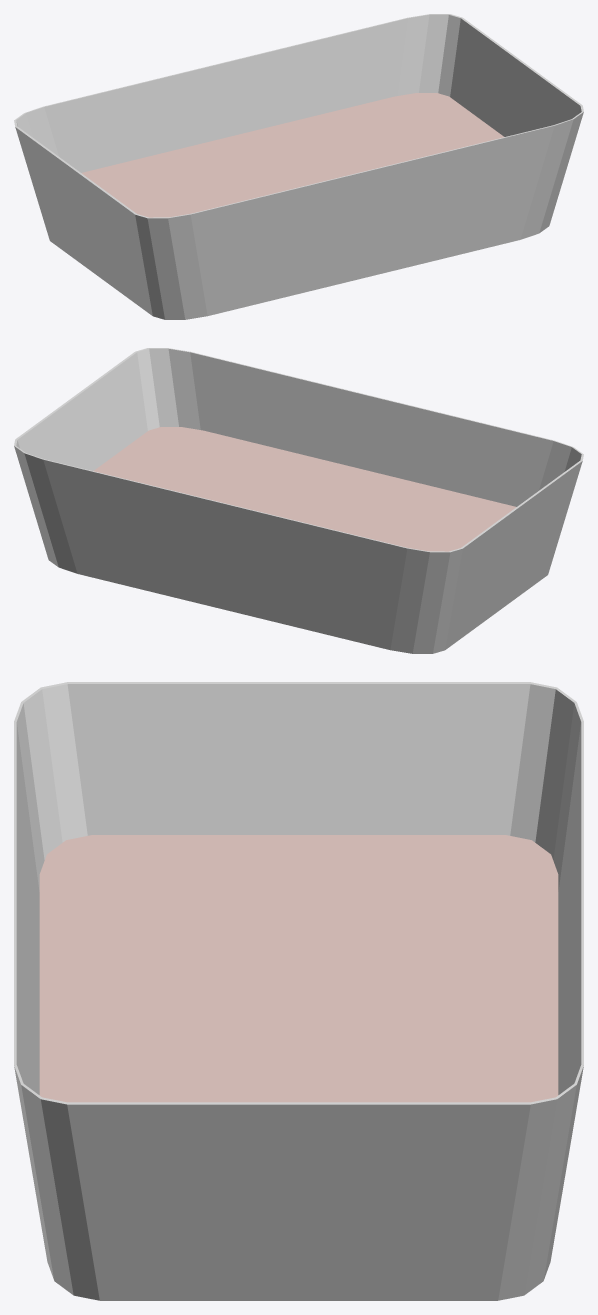
File: item6.fbx
3 renders of one model, top to bottom at view 1: azimuth 30°, elevation 25°; view 2: azimuth 150°, elevation 25°; view 3: azimuth 270°, elevation 25°, orthographic. The views are drawn at different scales.
Parts seen in each view (by area): view 1: Cube.003; view 2: Cube.003; view 3: Cube.003.
Part boxes in pixels (box(x1,y1,x2,y2)): Cube.003: box(14, 14, 583, 319); Cube.003: box(14, 348, 583, 653); Cube.003: box(14, 682, 583, 1300).
Bounding box in the file's own units: 462 × 113 × 264.
